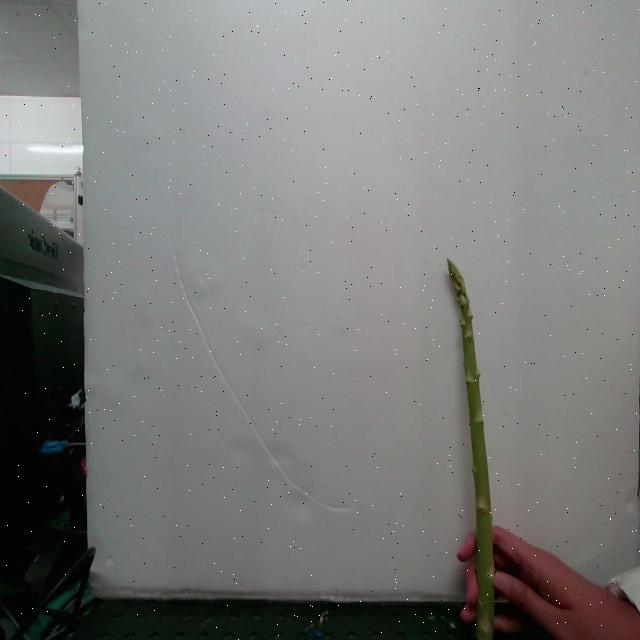aspargus: (450, 262, 496, 640)
